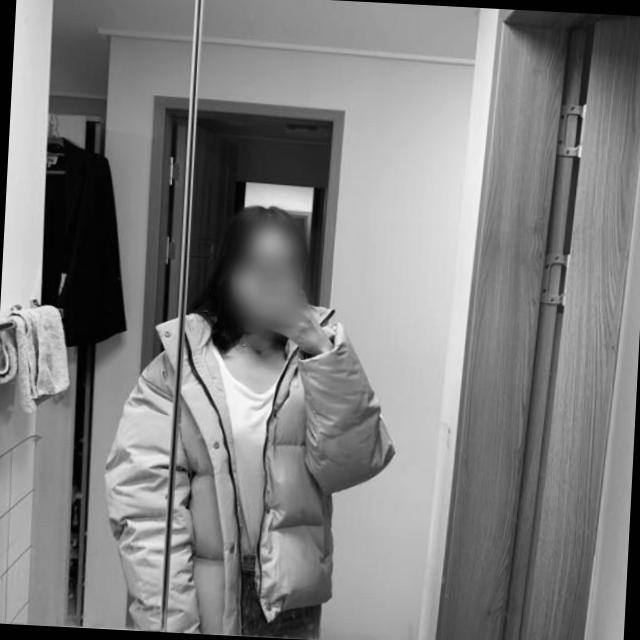padding: (96, 284, 405, 640)
